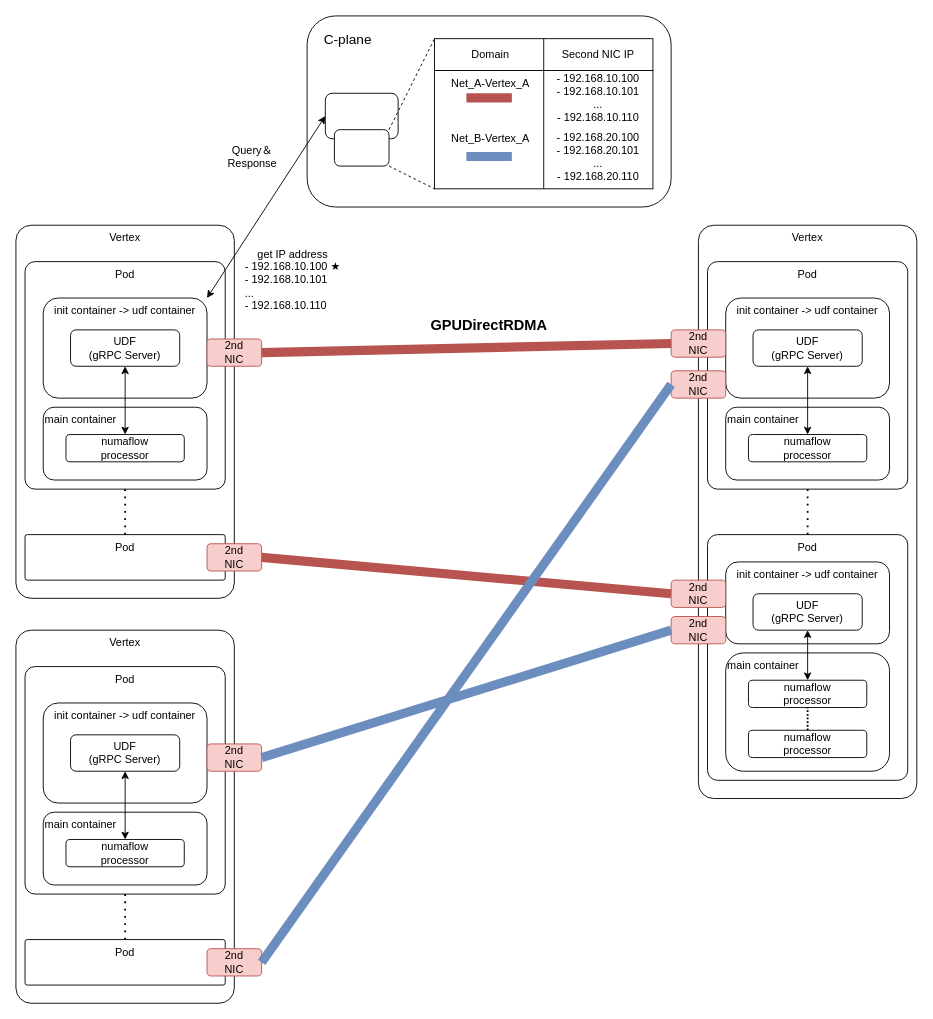
The diagram is 933 pixels wide and 1019 high, and some of its shapes have lost their labels. The shapes that lost their labels are listed below. From the top down, each one's box as (x1, y1, x2, y2) in pixels, then its label:
(324, 92, 398, 139): coreDNS
(334, 129, 389, 166): internal cache
